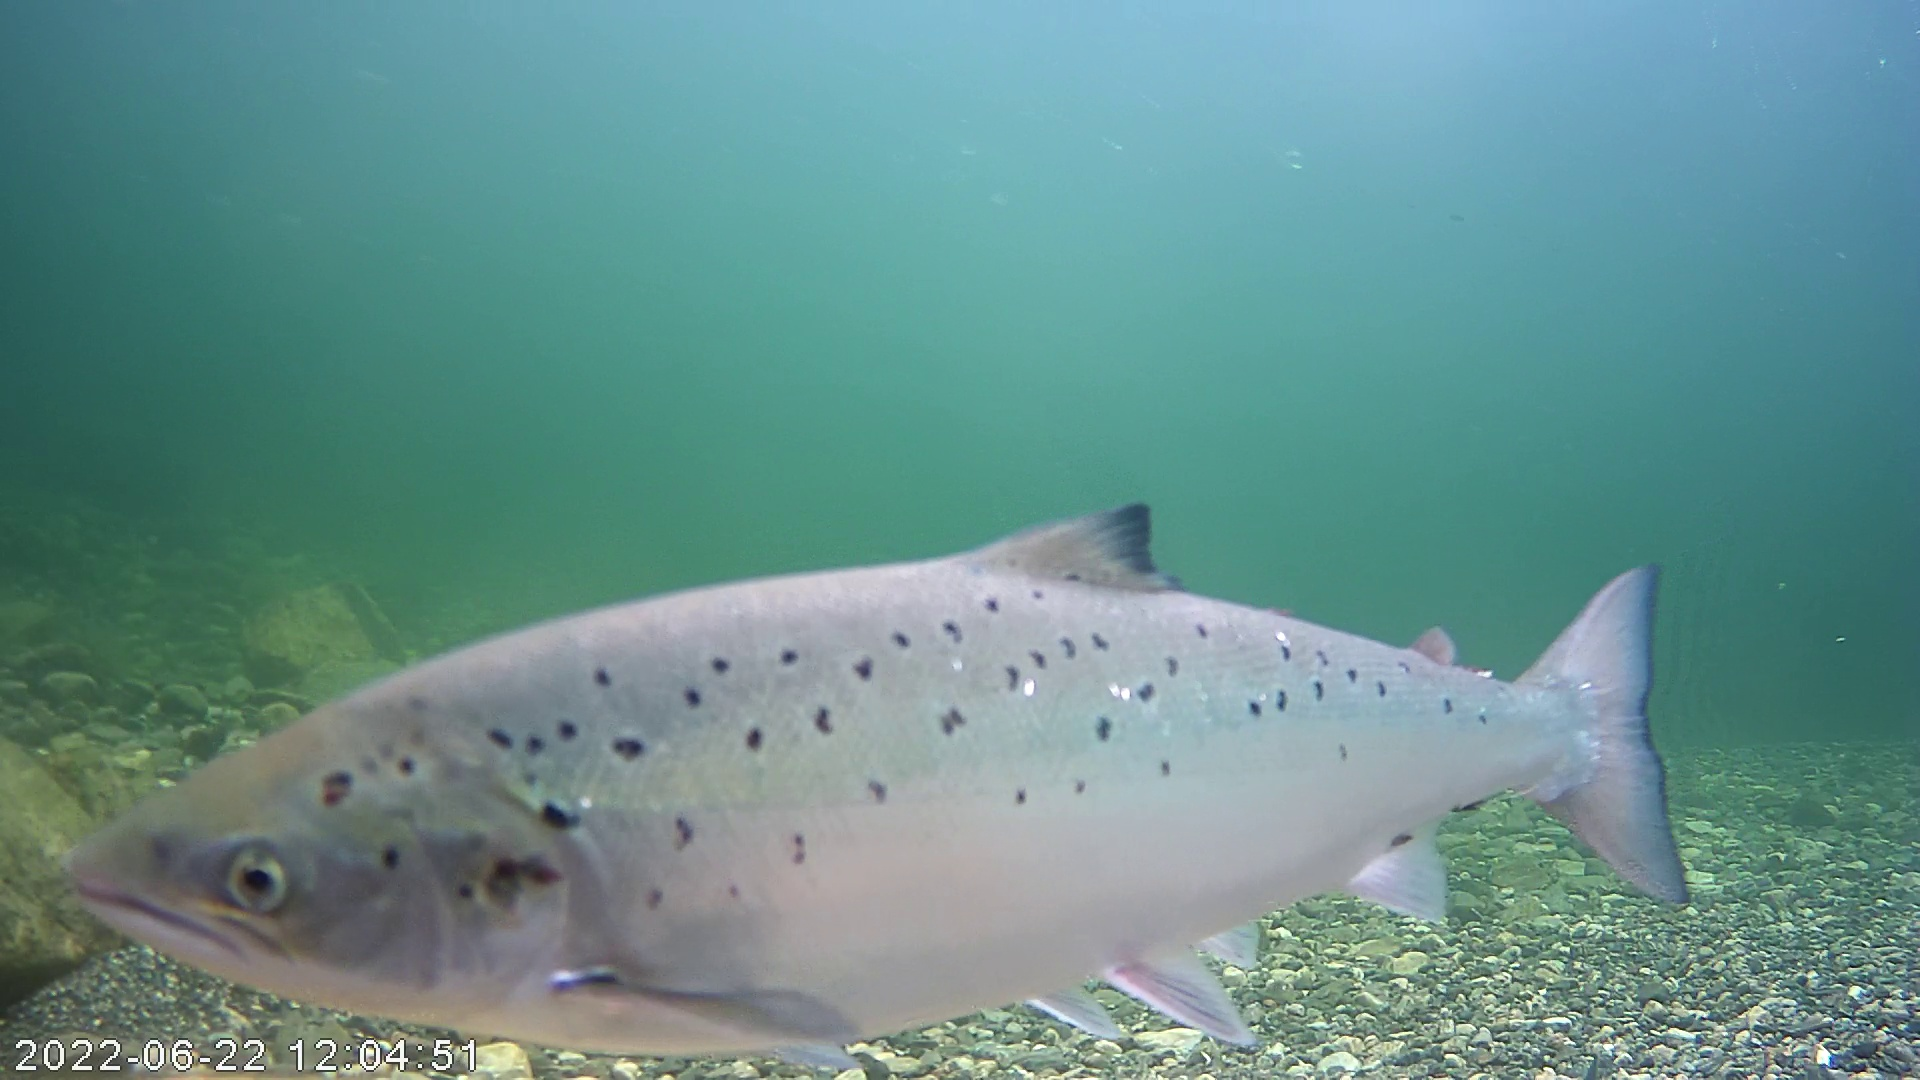salmon: (57, 493, 1696, 1064)
